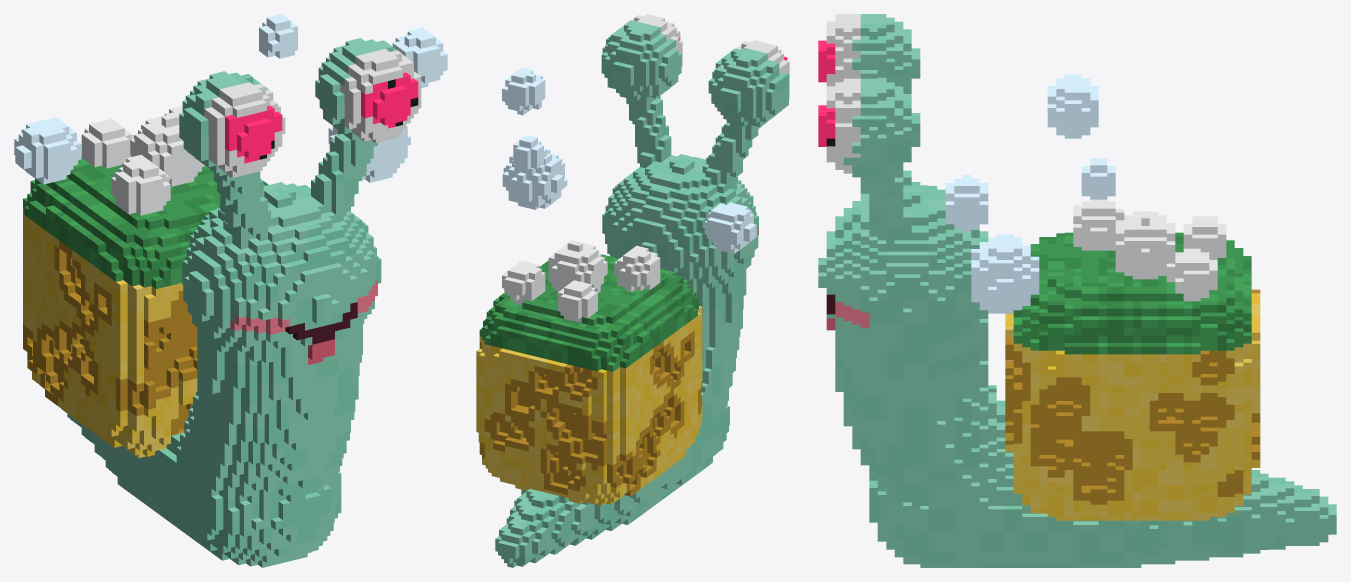
The model's file is spugnetta_lumachina.glb.
3 renders of one model, left to right at view 1: azimuth 30°, elevation 25°; view 2: azimuth 150°, elevation 25°; view 3: azimuth 270°, elevation 25°, orthographic. The views are drawn at different scales.
Parts seen in each view (by area): view 1: SM_Brainrot_spugnetta_lumachina; view 2: SM_Brainrot_spugnetta_lumachina; view 3: SM_Brainrot_spugnetta_lumachina.
Boxes of the visible parts, x1=… form: SM_Brainrot_spugnetta_lumachina: x1=14, y1=14, x2=447, y2=567; SM_Brainrot_spugnetta_lumachina: x1=476, y1=14, x2=789, y2=567; SM_Brainrot_spugnetta_lumachina: x1=818, y1=14, x2=1336, y2=567.
Bounding box in the file's own units: 2.88 × 3.84 × 3.66.
Materials: 1 (1 with a texture image).
